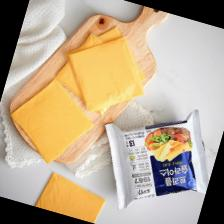cheese: (54, 20, 158, 124), (0, 67, 103, 171), (32, 168, 108, 224)
